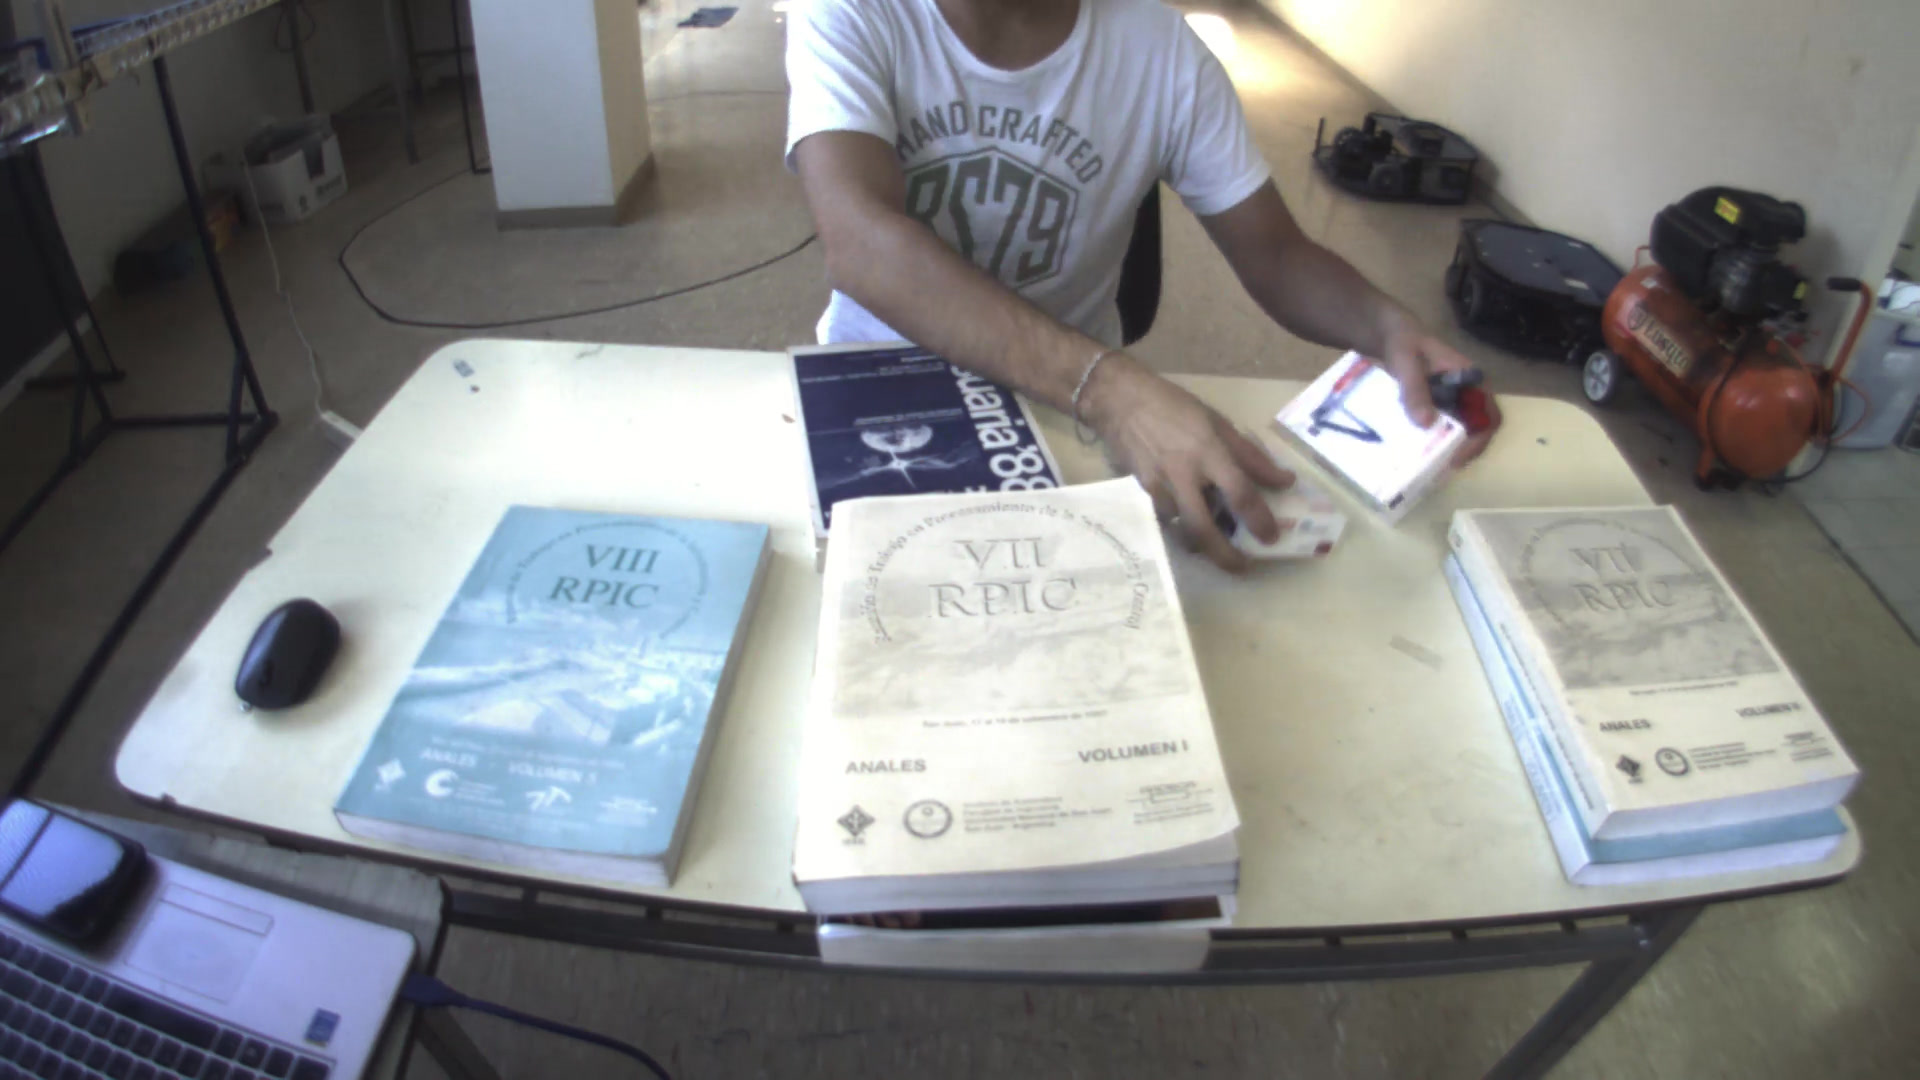hand: (1083, 367, 1305, 580), (1375, 313, 1502, 473)
